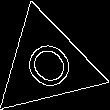O_SE: (14, 31, 80, 97)
